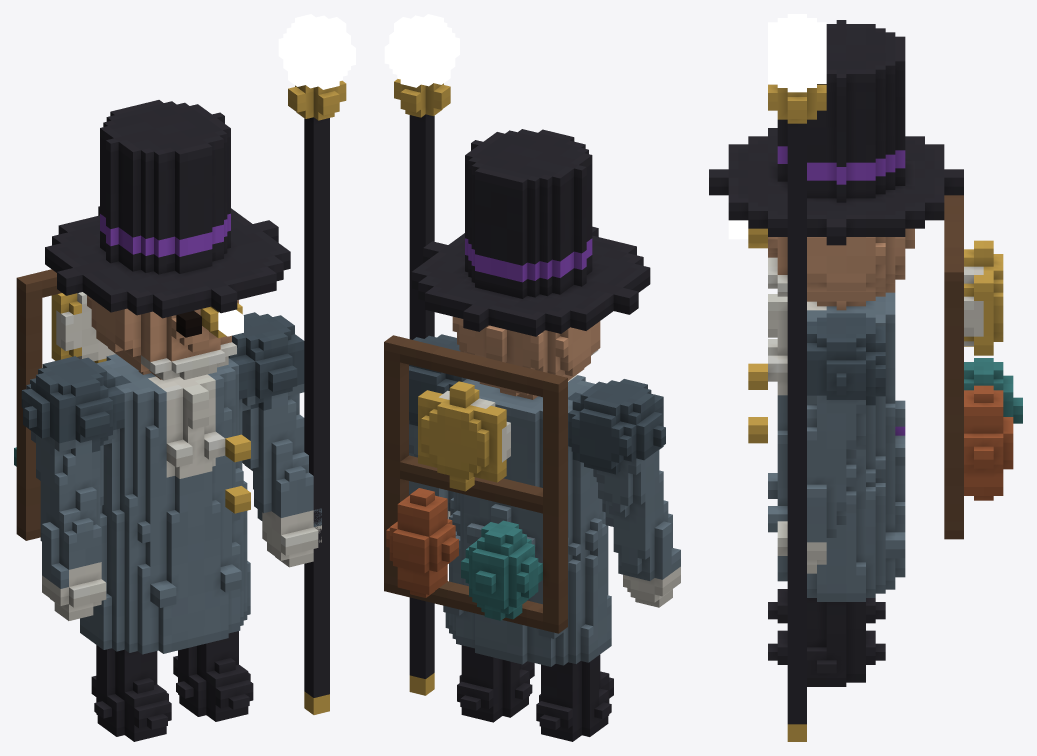
File: u_oracle__receleur.glb
3 renders of one model, left to right at view 1: azimuth 30°, elevation 25°; view 2: azimuth 150°, elevation 25°; view 3: azimuth 270°, elevation 25°, orthographic. The views are drawn at different scales.
Parts seen in each view (by area): view 1: oracle_body, oracle_weapon, oracle_weaponglow, oracle_glow; view 2: oracle_body, oracle_weapon, oracle_weaponglow; view 3: oracle_body, oracle_weapon, oracle_weaponglow.
Boxes of the visible parts, x1,y1,x2,y2 form: oracle_body: (14,100,321,741); oracle_weapon: (288,80,346,714); oracle_weaponglow: (278,14,355,89); oracle_glow: (218,309,243,336); oracle_body: (384,129,680,741); oracle_weapon: (394,79,450,695); oracle_weaponglow: (384,14,459,87); oracle_body: (709,20,1022,686); oracle_weapon: (768,84,826,741); oracle_weaponglow: (768,14,826,92).
Size of the model in its own units: 0.9 by 2 by 0.8.
